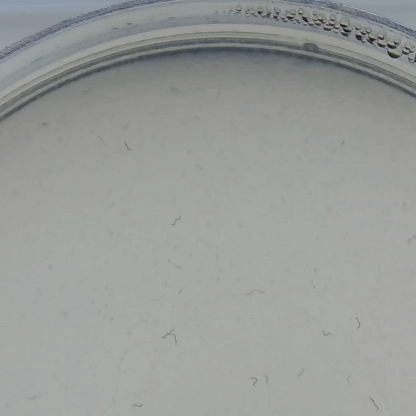worm: (162, 324, 186, 351), (165, 213, 193, 235), (240, 285, 273, 301), (125, 396, 151, 416), (362, 394, 384, 413), (119, 138, 138, 159), (289, 361, 311, 378), (337, 367, 356, 385), (351, 313, 365, 334), (95, 129, 109, 148), (246, 372, 262, 388), (262, 369, 273, 391), (31, 390, 45, 407), (318, 324, 331, 341), (402, 234, 416, 245)
